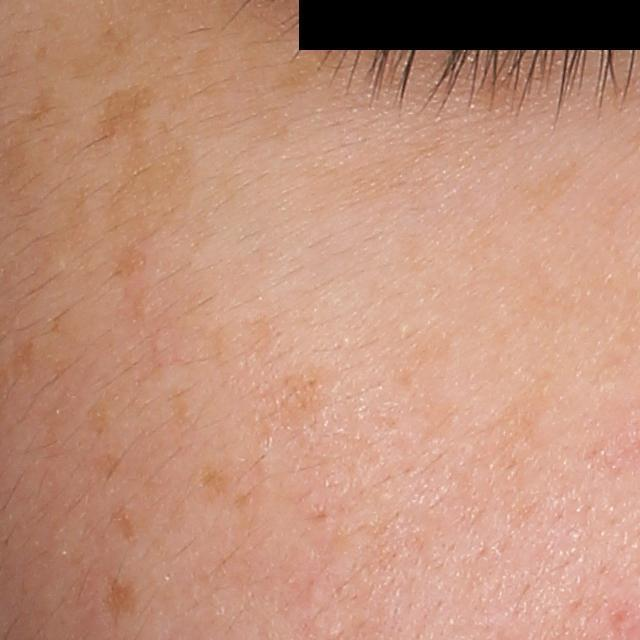melasma: (398, 162, 587, 276), (105, 121, 201, 249), (86, 82, 156, 157), (67, 25, 140, 90), (99, 570, 140, 631), (265, 59, 321, 97), (193, 459, 234, 507), (16, 85, 59, 127), (110, 501, 144, 551), (109, 241, 152, 280), (82, 388, 112, 438), (87, 450, 125, 483)
